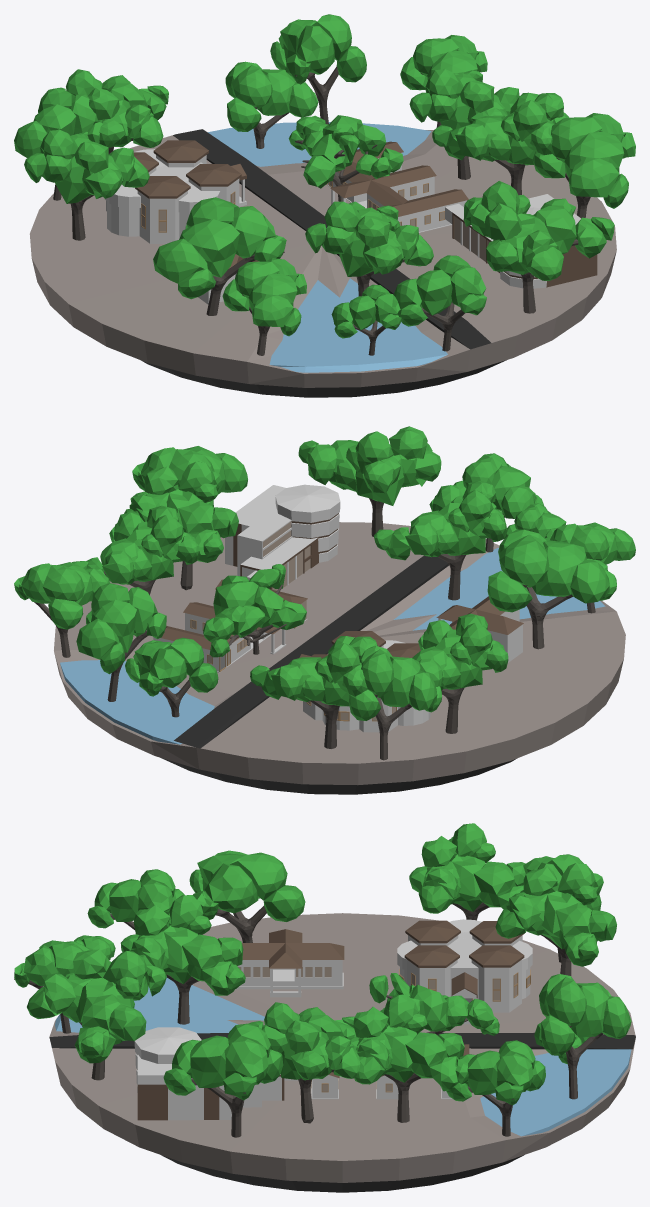
File: low-scene-nits3.dae
3 renders of one model, top to bottom at view 1: azimuth 30°, elevation 25°; view 2: azimuth 150°, elevation 25°; view 3: azimuth 270°, elevation 25°, orthographic. The views are drawn at different scales.
Visible parts, largest first — view 1: Cylinder, Cylinder_001, Cube, Icosphere_003, Cube_027, Cube_003, Icosphere_001, Icosphere_005, Icosphere_002, Cube_001, Cube_014, Cube_031 (+10 smaller); view 2: Cylinder, Cylinder_001, Cube_006, Cube_027, Icosphere_003, Icosphere_001, Cube_004, Icosphere_004, Cube_001, Icosphere_005, Cube_014, Icosphere (+14 smaller); view 3: Cylinder, Cylinder_001, Cube, Icosphere_003, Icosphere, Icosphere_004, Icosphere_001, Icosphere_002, Cube_003, Cube_027, Cube_006, Cube_014 (+13 smaller).
Boxes of the visible parts, x1=… form: Cylinder: x1=29, y1=130, x2=616, y2=397; Cylinder_001: x1=208, y1=122, x2=447, y2=372; Cube: x1=105, y1=140, x2=246, y2=243; Icosphere_003: x1=463, y1=181, x2=614, y2=280; Cube_027: x1=153, y1=197, x2=286, y2=315; Cube_003: x1=532, y1=113, x2=635, y2=218; Icosphere_001: x1=305, y1=201, x2=433, y2=276; Icosphere_005: x1=432, y1=92, x2=569, y2=165; Icosphere_002: x1=24, y1=129, x2=149, y2=203; Cube_001: x1=288, y1=115, x2=403, y2=201; Cube_014: x1=270, y1=14, x2=366, y2=124; Cube_031: x1=326, y1=141, x2=468, y2=232; Cylinder: x1=54, y1=522, x2=625, y2=794; Cylinder_001: x1=60, y1=548, x2=605, y2=744; Cube_006: x1=225, y1=484, x2=340, y2=590; Cube_027: x1=487, y1=529, x2=616, y2=649; Icosphere_003: x1=298, y1=426, x2=441, y2=505; Icosphere_001: x1=374, y1=480, x2=507, y2=560; Cube_004: x1=174, y1=555, x2=448, y2=748; Icosphere_004: x1=72, y1=505, x2=199, y2=584; Cube_001: x1=203, y1=564, x2=306, y2=657; Icosphere_005: x1=124, y1=461, x2=238, y2=562; Cube_014: x1=76, y1=583, x2=166, y2=701; Icosphere: x1=250, y1=636, x2=377, y2=706; Cylinder: x1=49, y1=913, x2=635, y2=1192; Cylinder_001: x1=55, y1=977, x2=631, y2=1136; Cube: x1=397, y1=919, x2=532, y2=1024; Icosphere_003: x1=27, y1=949, x2=166, y2=1063; Icosphere: x1=495, y1=863, x2=616, y2=966; Icosphere_004: x1=348, y1=994, x2=468, y2=1091; Icosphere_001: x1=120, y1=895, x2=245, y2=995; Icosphere_002: x1=409, y1=823, x2=525, y2=913; Cube_003: x1=163, y1=1023, x2=283, y2=1137; Cube_027: x1=189, y1=850, x2=305, y2=942; Cube_006: x1=134, y1=1027, x2=298, y2=1120; Cube_014: x1=539, y1=974, x2=631, y2=1099.
Bounding box in the file's own units: 21.7 × 22.8 × 9.84.
